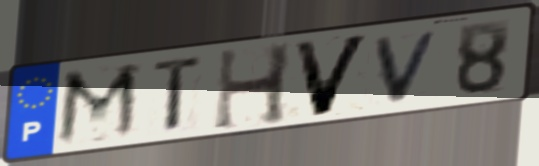8: (452, 19, 512, 98)
H: (210, 40, 296, 134)
M: (52, 60, 144, 150)
T: (150, 52, 208, 136)
V: (289, 31, 375, 120), (372, 26, 446, 106)
